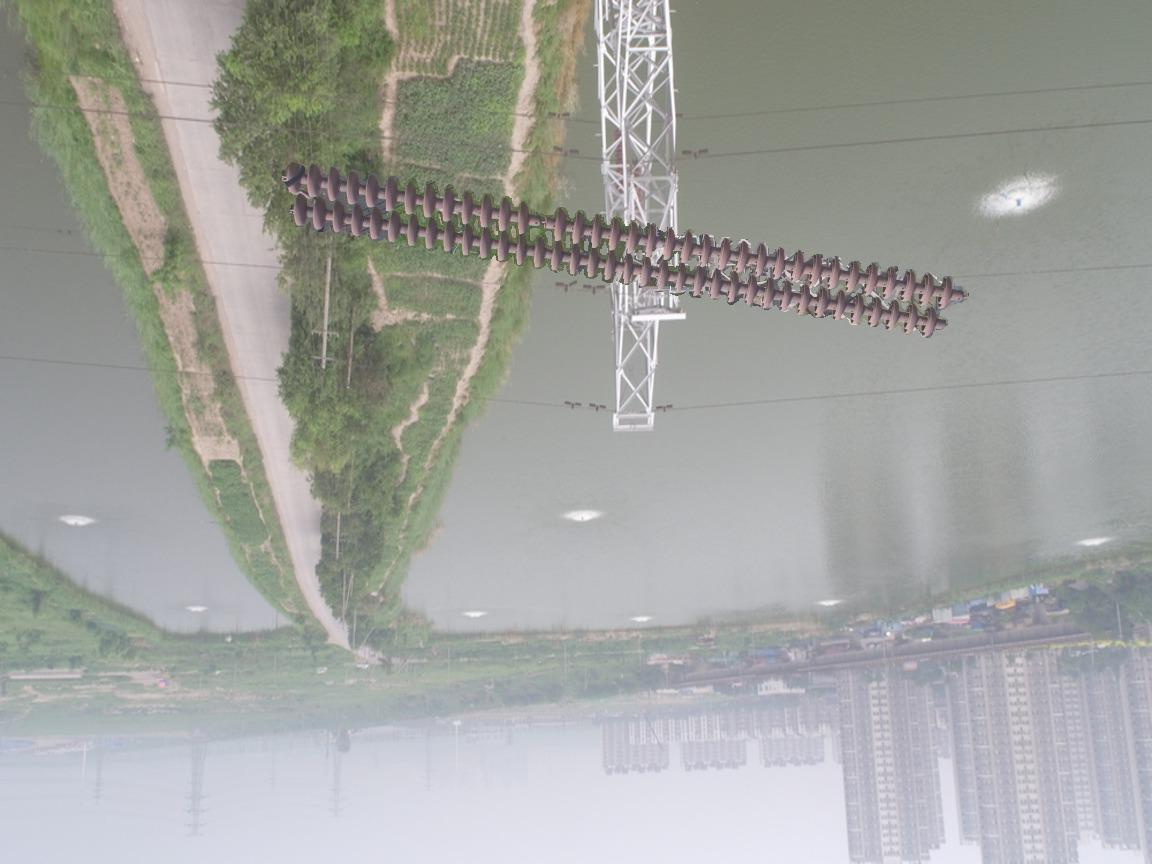insulator: (282, 155, 963, 341)
insulator_stringdrop: (513, 199, 568, 245)
